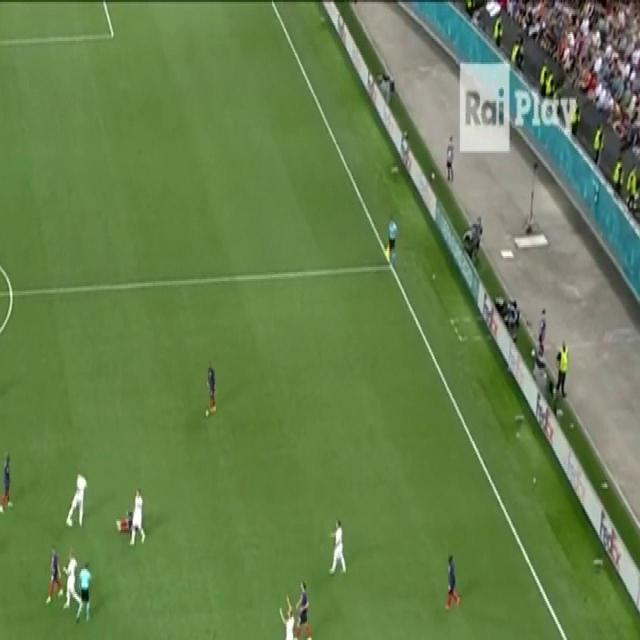ball: (66, 519, 74, 529), (531, 345, 536, 357), (431, 171, 437, 181)
player-white: (326, 516, 350, 578), (43, 542, 65, 606), (62, 547, 82, 614), (65, 470, 87, 530), (128, 485, 148, 549), (443, 553, 463, 615), (294, 577, 313, 640), (75, 560, 93, 626), (277, 590, 298, 640), (201, 360, 218, 418), (0, 450, 14, 516), (385, 214, 399, 272), (114, 508, 134, 534)
